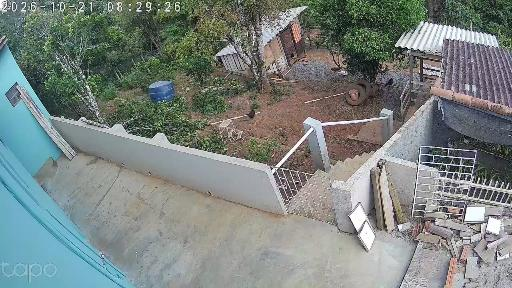galinha: (246, 105, 256, 120), (385, 78, 394, 86)
